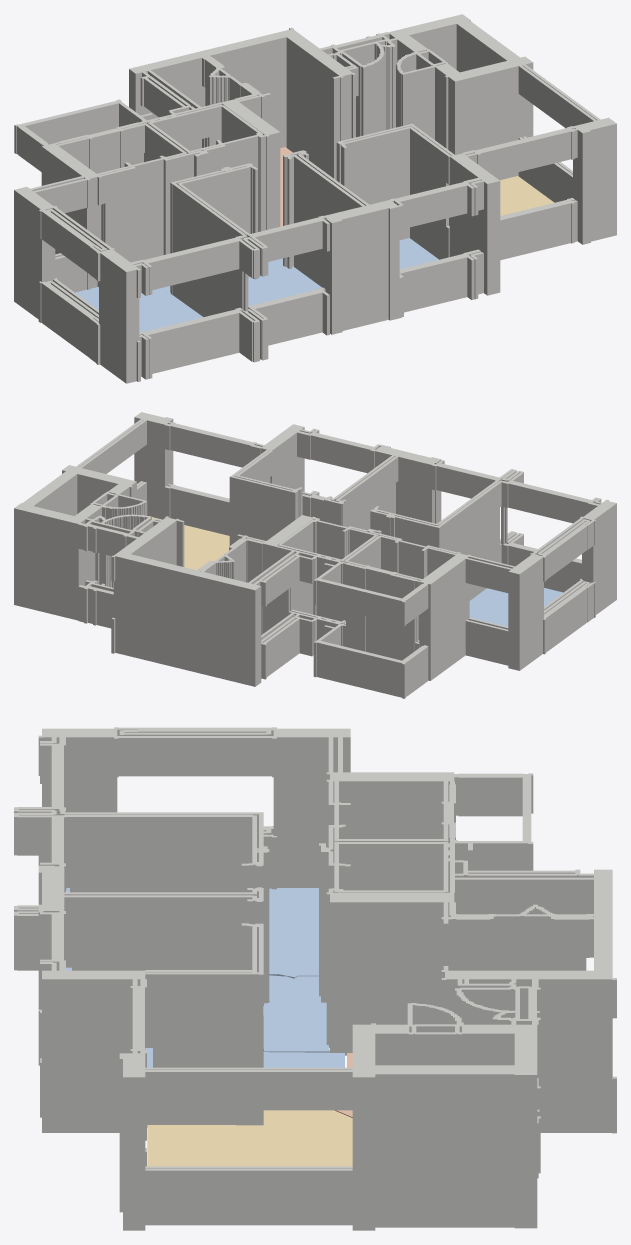
3 views of the same model, one above another, from view 1: azimuth 30°, elevation 25°; view 2: azimuth 150°, elevation 25°; view 3: azimuth 270°, elevation 25° (orthographic). The views are drawn at different scales.
Visible parts, largest first — view 1: walls, room:bedroom:5, room:bedroom:6, room:living:4, room:bedroom:7; view 2: walls, room:living:4, room:bedroom:5; view 3: walls, room:living:4, room:bedroom:6, room:bedroom:5, room:bedroom:7.
Boxes of the visible parts, left/top/right/bottom form: walls: left=14, top=14, right=616, bottom=383; room:bedroom:5: left=75, top=286, right=203, bottom=331; room:bedroom:6: left=248, top=258, right=321, bottom=305; room:living:4: left=500, top=176, right=554, bottom=215; room:bedroom:7: left=399, top=238, right=438, bottom=269; walls: left=14, top=412, right=616, bottom=698; room:living:4: left=152, top=517, right=229, bottom=570; room:bedroom:5: left=469, top=588, right=563, bottom=626; walls: left=14, top=727, right=616, bottom=1230; room:living:4: left=147, top=1110, right=352, bottom=1166; room:bedroom:6: left=66, top=967, right=329, bottom=1052; room:bedroom:5: left=66, top=888, right=318, bottom=978; room:bedroom:7: left=145, top=1048, right=344, bottom=1067.
Bounding box in the file's own units: 13.71 × 2.8 × 9.98.
